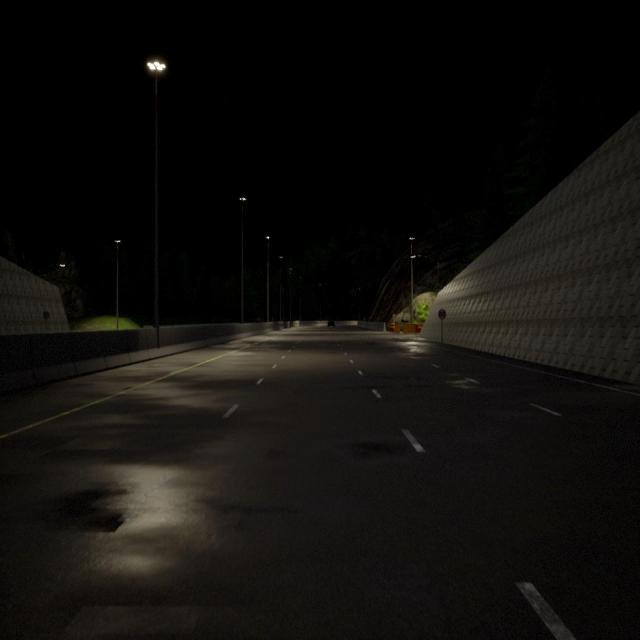Traffic_Signs: (438, 308, 446, 320), (44, 311, 50, 319), (392, 314, 396, 320)
Vehicle: (328, 319, 334, 328)
